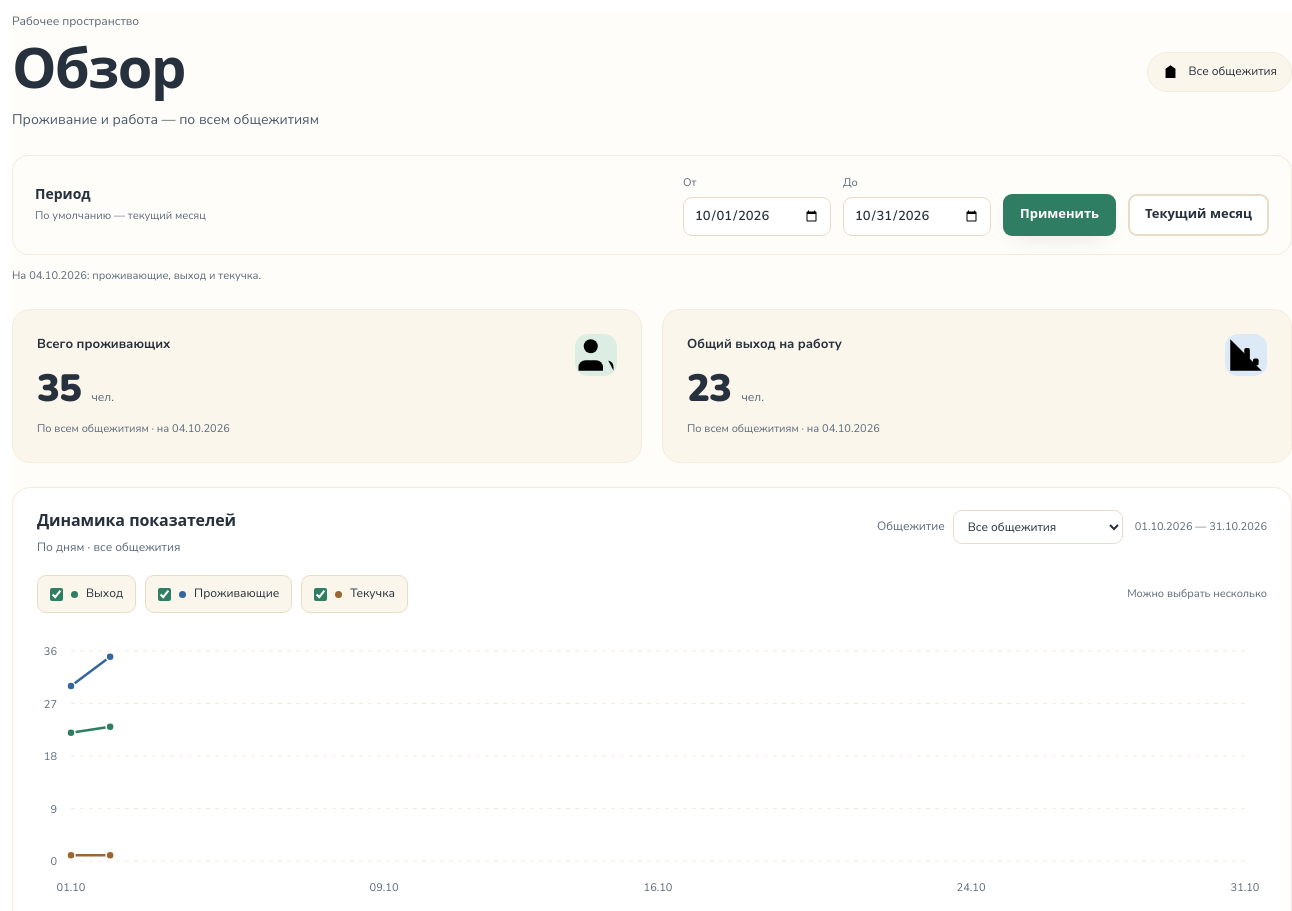
Test: дашборд › переключает независимые серии, включая один показатель и пустой выбор
Expected: the element with test id "dashboard-total-residents" shows "35", [37,363,81,414]
Expected: the element with test id "dashboard-total-attendance" shows "23", [687,363,731,414]
Click the checkbox labelled "Выход". click: (56, 594)
box: [50,588,63,601]
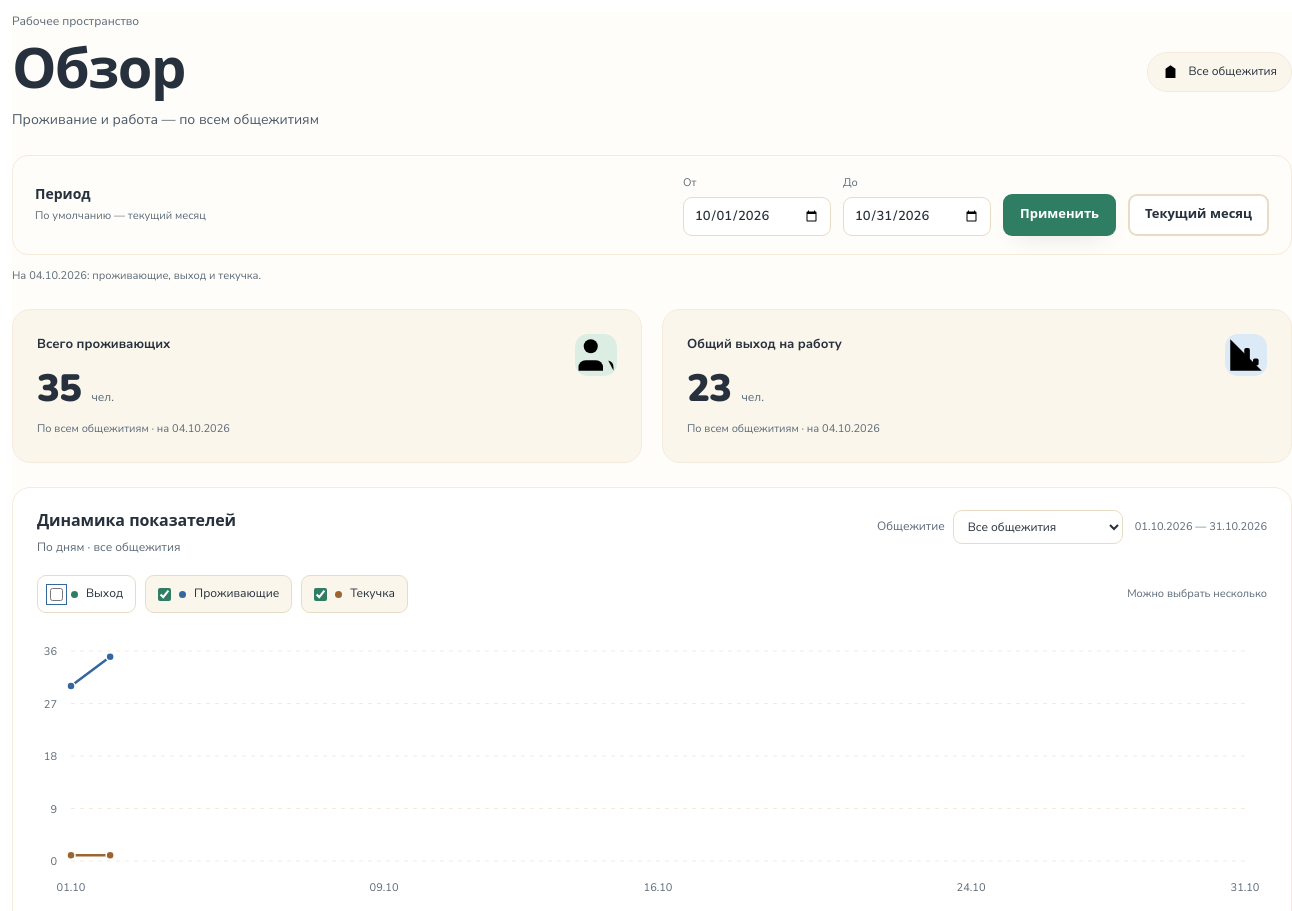
Click the checkbox labelled "Текучка". click: (321, 594)
box: [314,588,327,601]
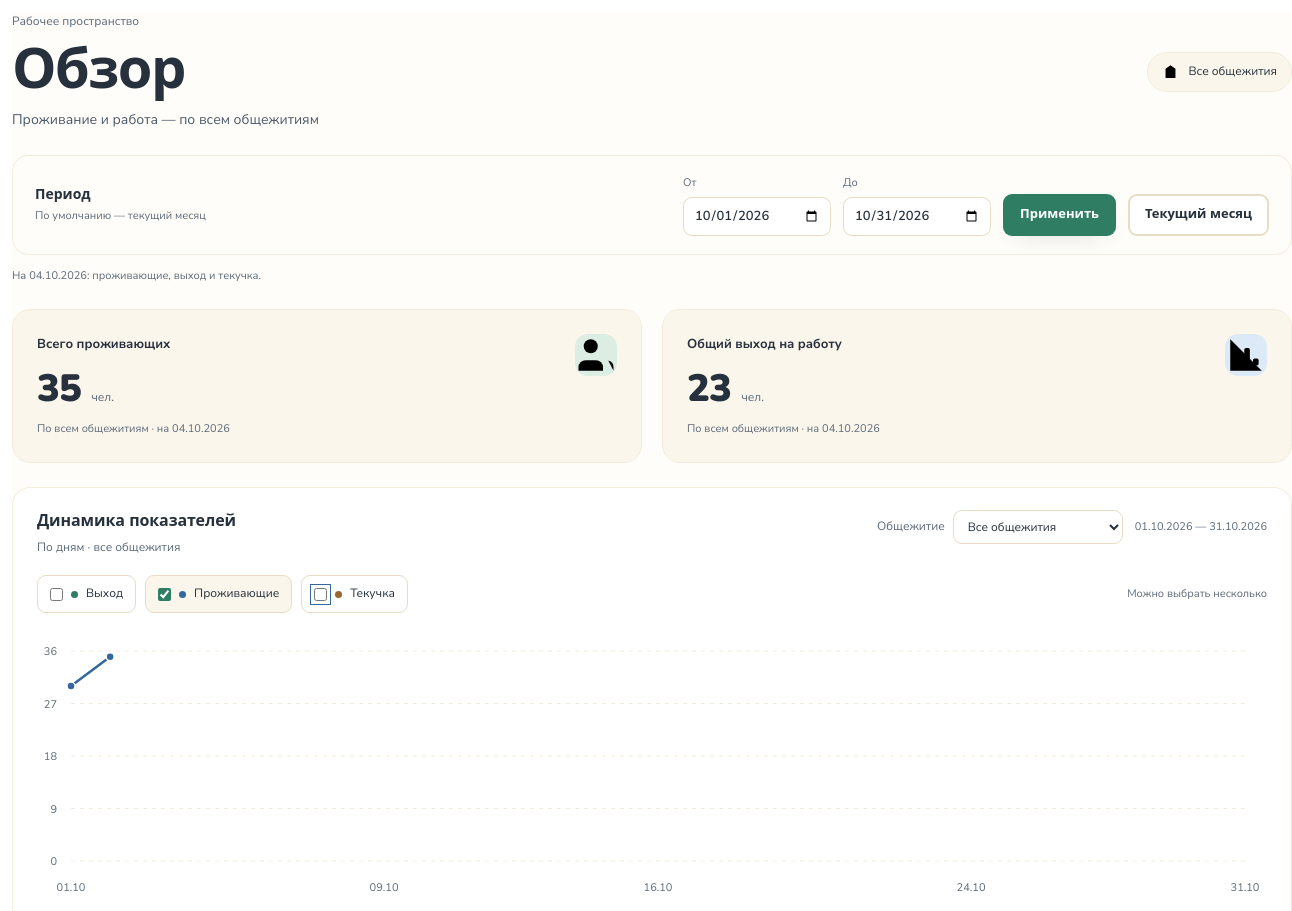
Click the checkbox labelled "Проживающие". click: (165, 594)
box: [158,588,171,601]
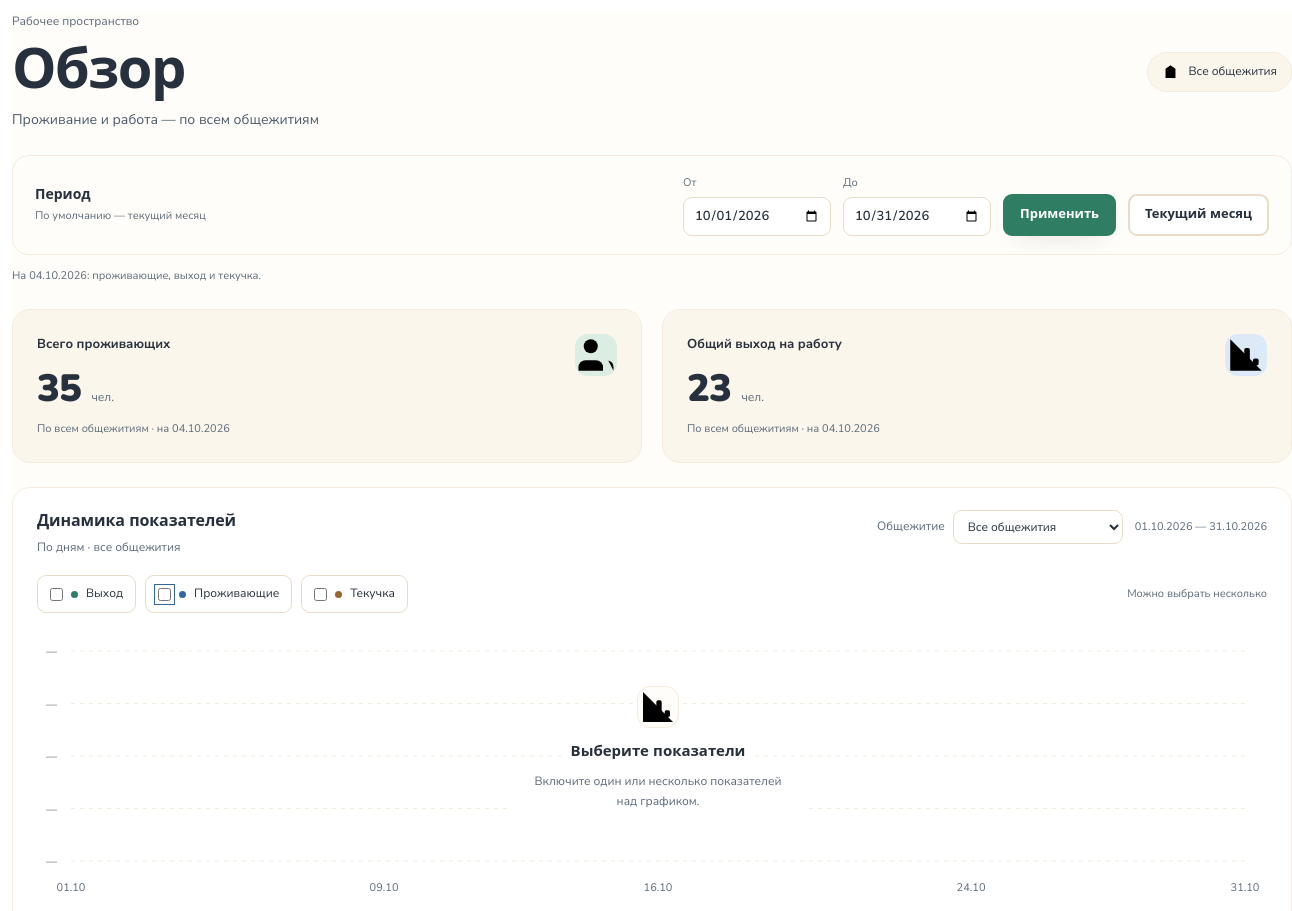
Now the text "Выберите показатели" is shown, box [563,738,753,763]
Click the checkbox labelled "Выход". click: (56, 594)
box: [50,588,63,601]
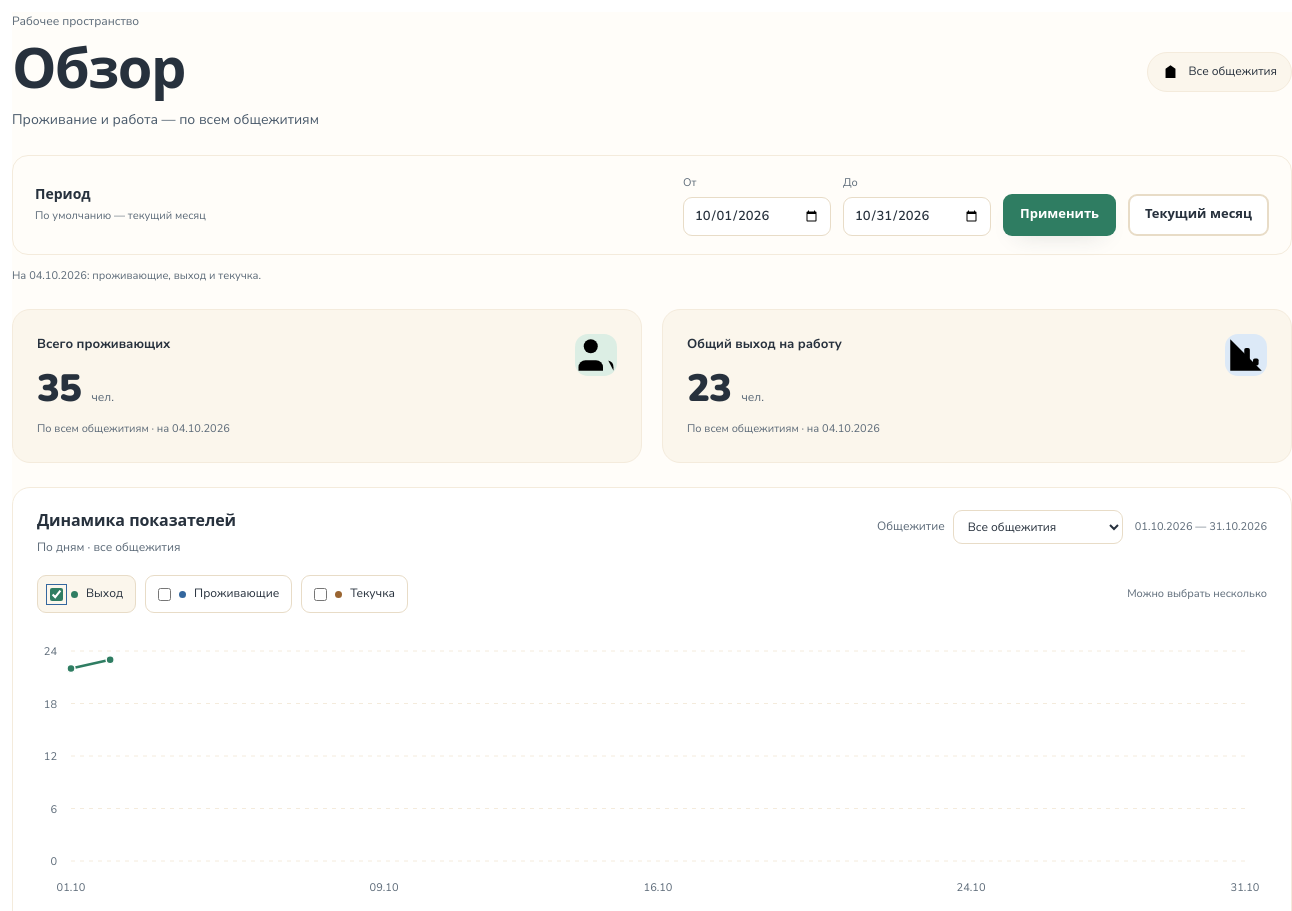
Expected: the element with test id "chart-series-attendance" is shown, [67,656,114,673]
Now the text "Выберите показатели" is gone
